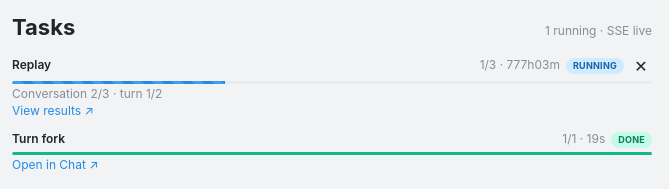
Test: QueuePage › cancel DELETEs the parent and the row reflects cancelled
Expected: the element with test id "task-task-seed-replay" is shown, [12,55,652,119]
Click the button named "Cancel Replay". click: (641, 66)
box: [630,55,652,77]
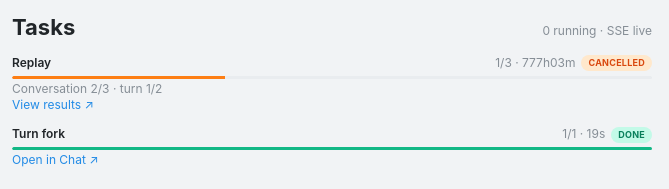
Now the text "cancelled" is shown, box [588,56,645,70]
Now the text "0 running · SSE live" is shown, box [542,23,652,40]
